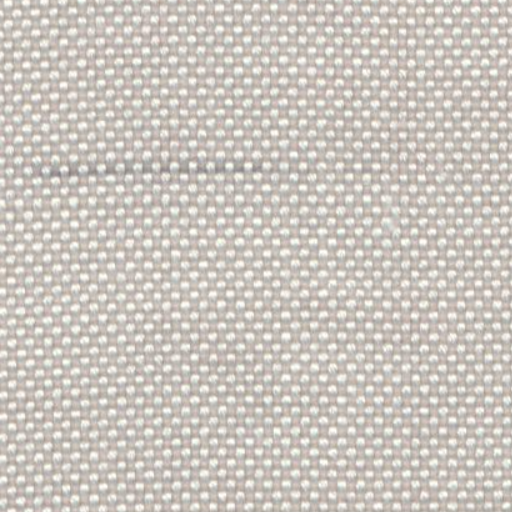WuZi: (48, 151, 244, 182)
